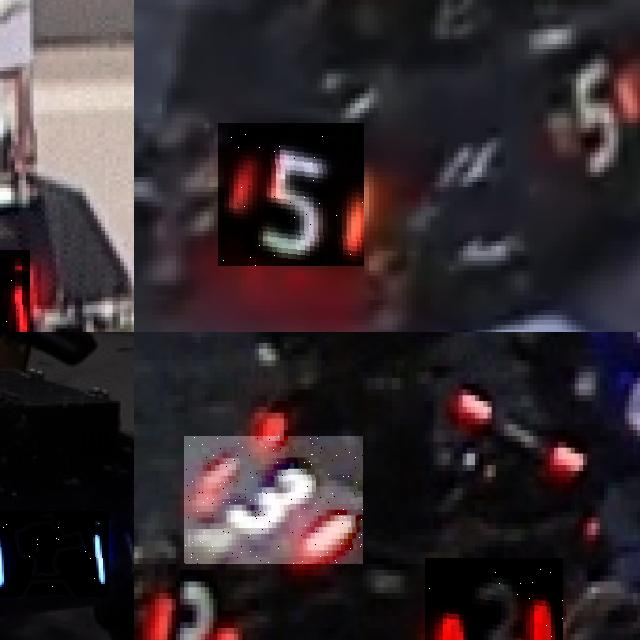B2: (599, 332, 640, 459)
Bs: (0, 511, 109, 596)
R3: (184, 436, 363, 564), (425, 558, 562, 640), (138, 587, 254, 640)
R5: (218, 123, 364, 266)
